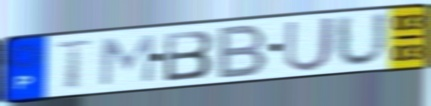B: (215, 22, 270, 81), (162, 28, 217, 83)
M: (97, 32, 157, 88)
T: (52, 38, 97, 91)
U: (334, 10, 392, 70), (282, 15, 338, 74)
